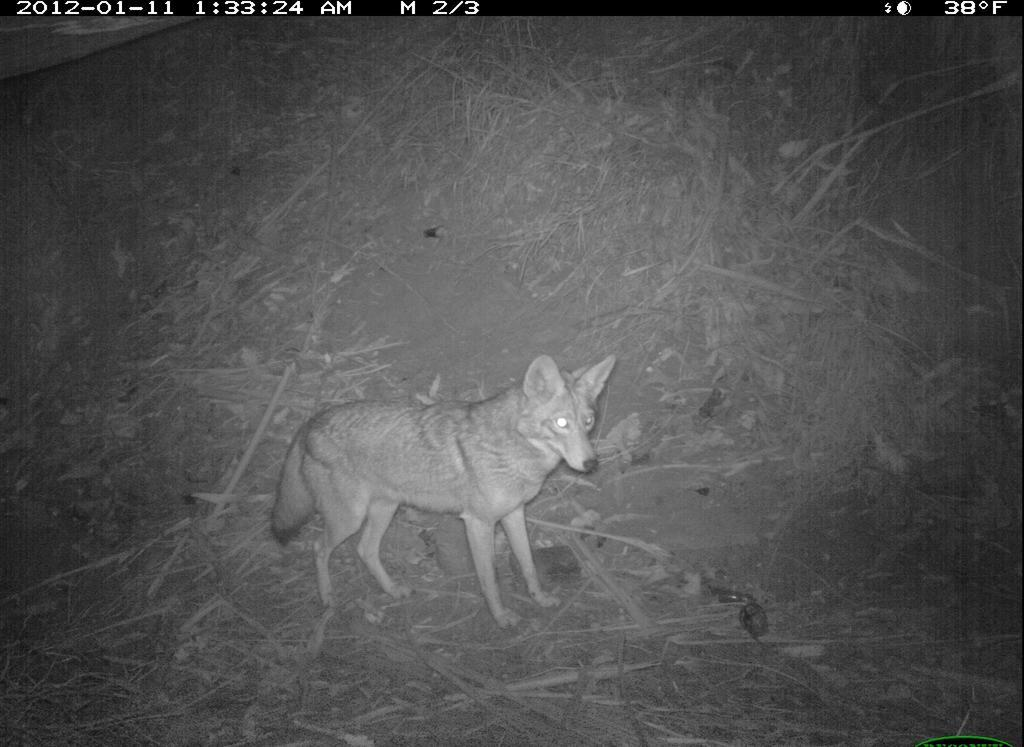coyote: (265, 351, 623, 634)
